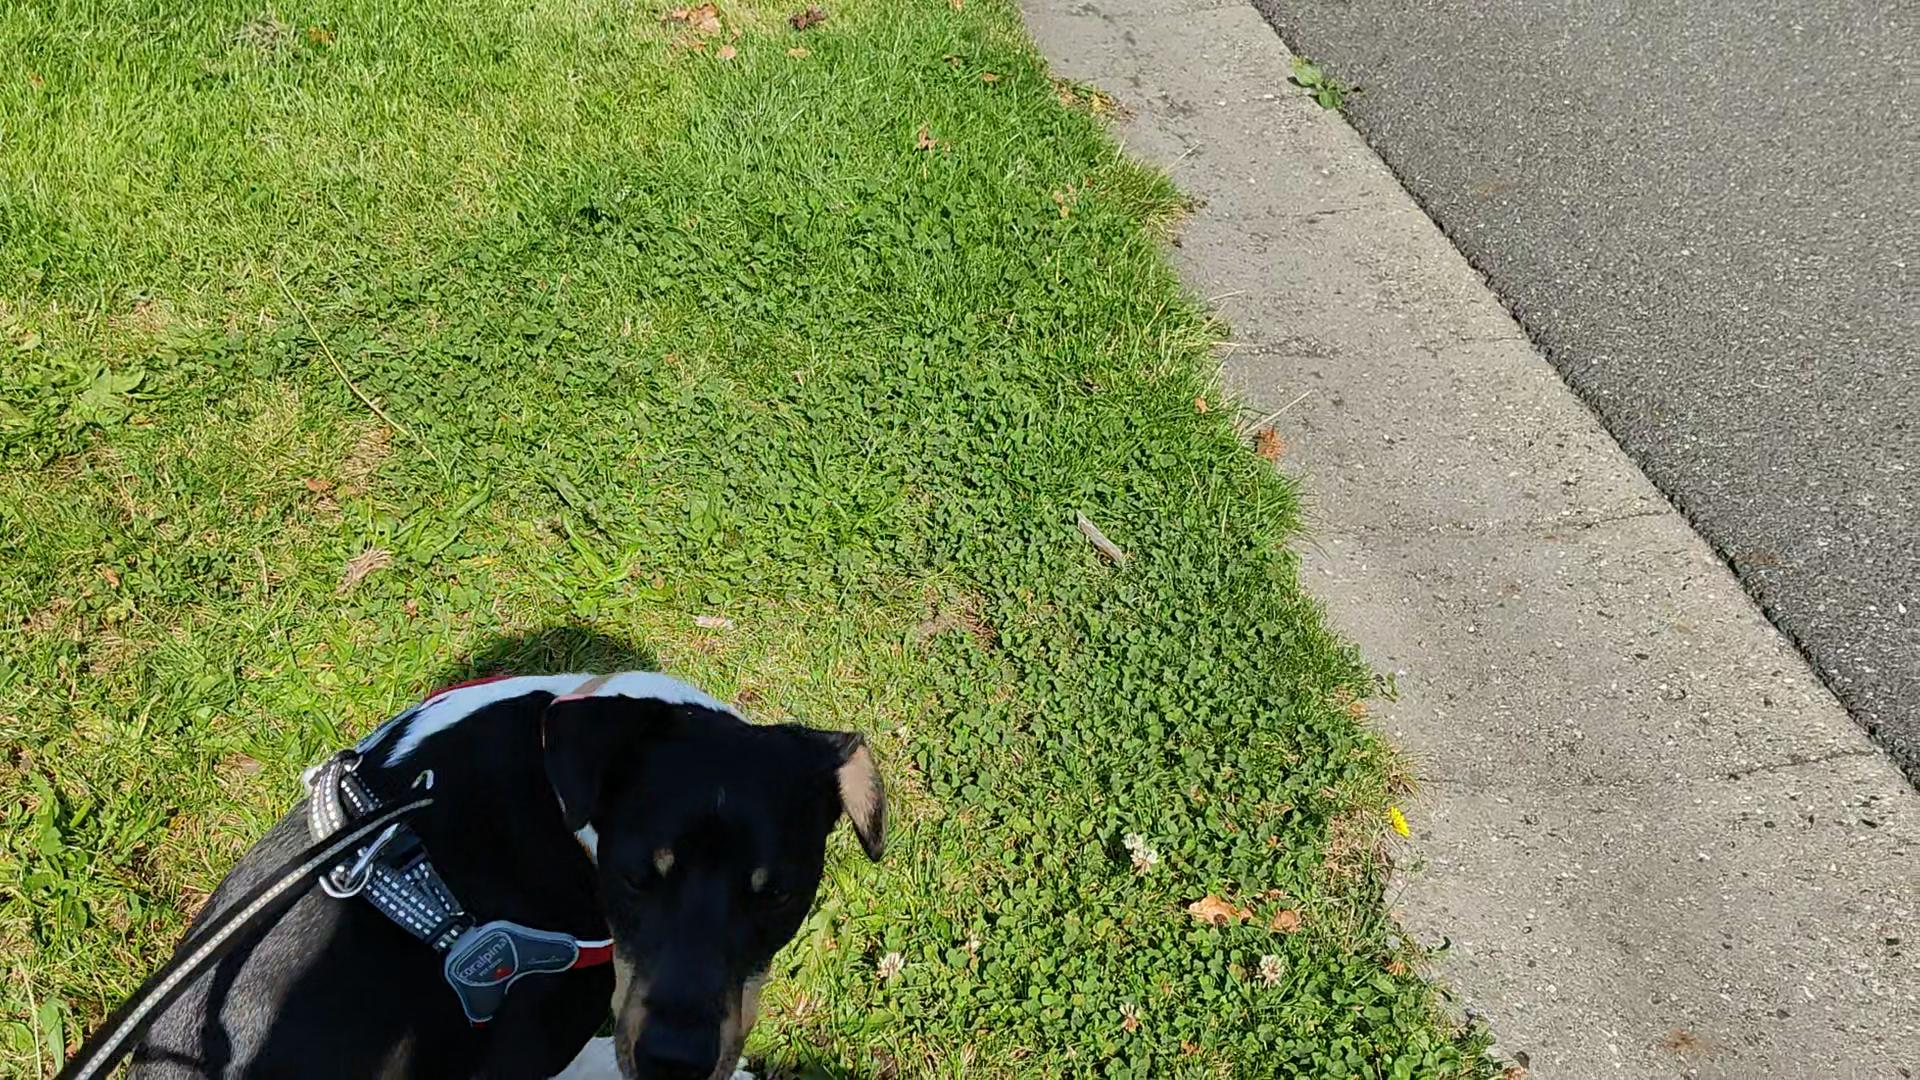Dog: (98, 659, 906, 1079)
